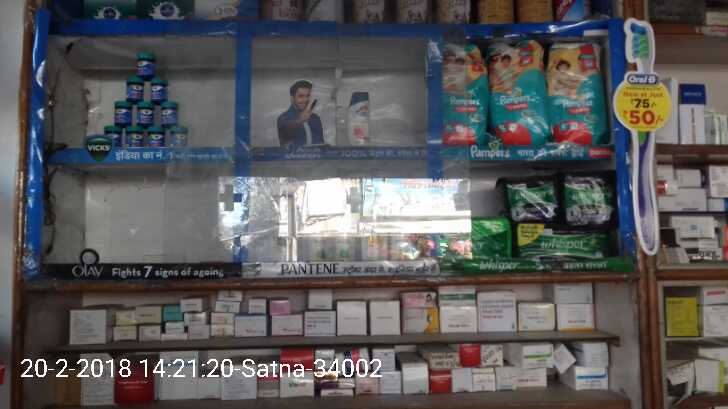beauty: (345, 89, 373, 149)
pharmacy: (424, 36, 485, 147), (487, 40, 548, 150), (546, 39, 606, 143), (513, 221, 608, 258), (559, 173, 618, 229), (500, 176, 558, 226), (112, 97, 133, 128), (134, 47, 155, 77), (159, 97, 180, 126), (148, 77, 168, 104), (168, 125, 189, 150), (125, 77, 144, 103), (125, 127, 142, 151), (136, 102, 148, 126), (147, 127, 159, 146)
